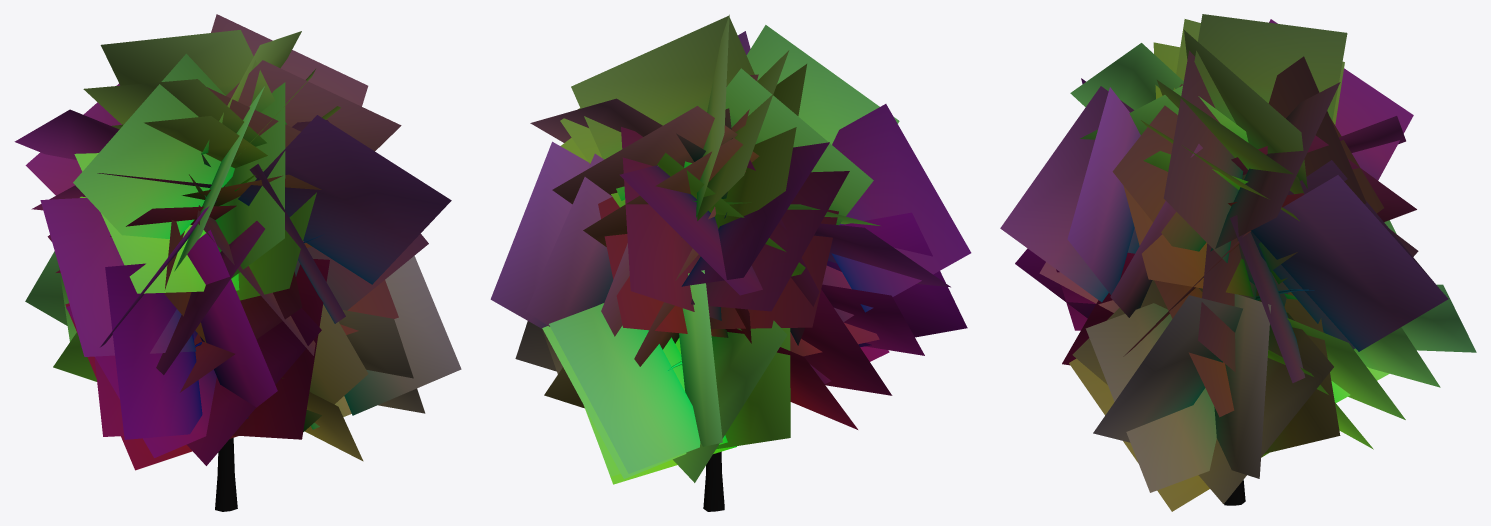
The model's file is URP_Tree_2_LOD_3.fbx.
3 renders of one model, left to right at view 1: azimuth 30°, elevation 25°; view 2: azimuth 150°, elevation 25°; view 3: azimuth 270°, elevation 25°, orthographic.
Visible parts, largest first — view 1: Tree_1_LOD_3; view 2: Tree_1_LOD_3; view 3: Tree_1_LOD_3.
Boxes of the visible parts, bbox=[...] form: Tree_1_LOD_3: bbox=[14, 14, 461, 511]; Tree_1_LOD_3: bbox=[490, 14, 971, 511]; Tree_1_LOD_3: bbox=[1000, 14, 1476, 511].
Size of the model in its own units: 473 by 579 by 513.
